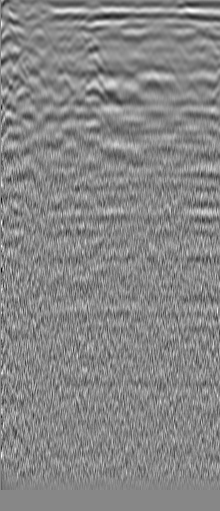오수: (24, 21, 44, 41)
우수: (165, 35, 185, 55)
